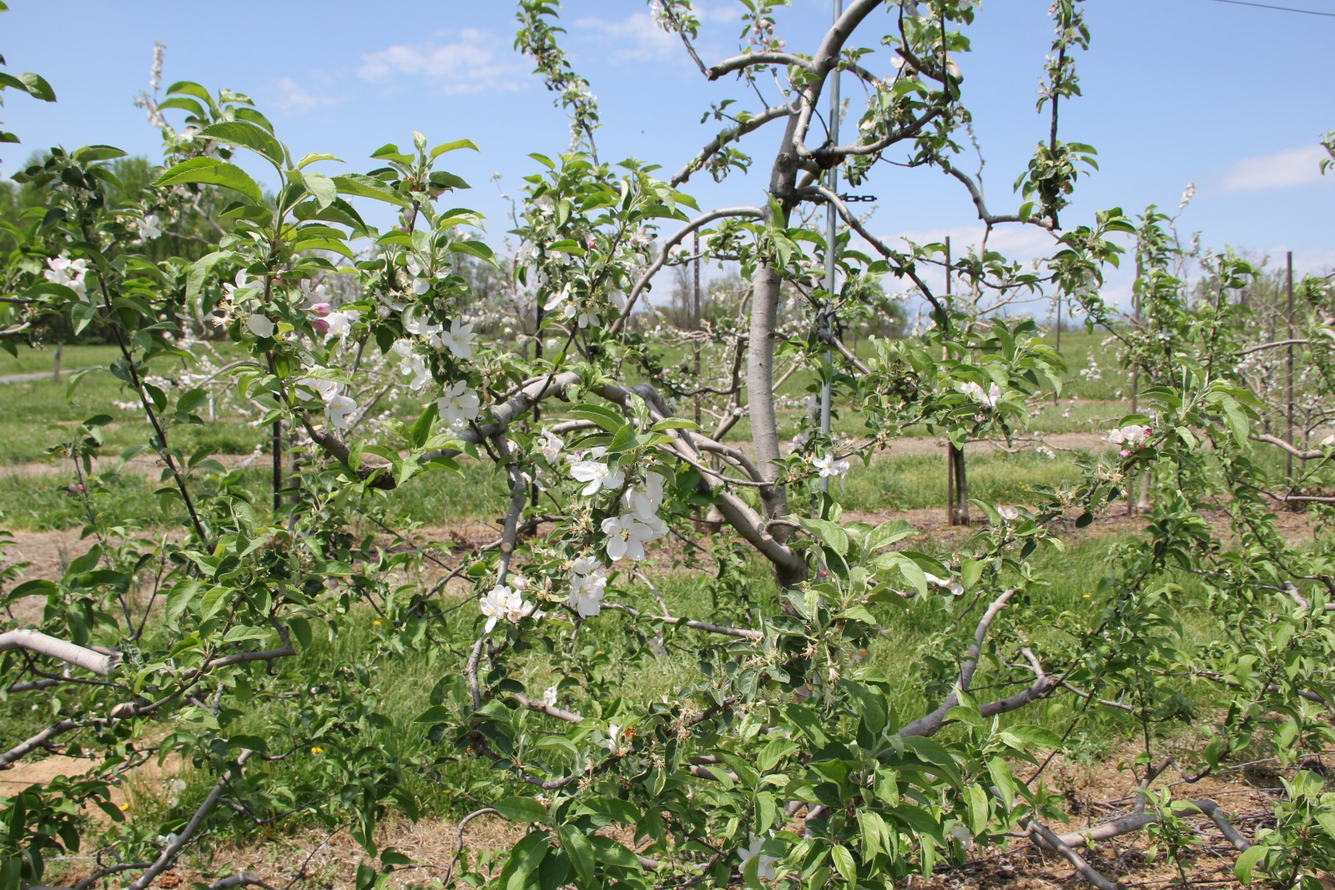flower: (601, 472, 670, 561), (406, 307, 478, 359), (293, 378, 357, 435), (480, 574, 533, 636), (571, 447, 626, 496), (429, 380, 480, 432), (567, 556, 607, 620), (621, 222, 660, 287), (389, 337, 433, 390), (45, 254, 90, 304), (813, 452, 850, 495), (319, 310, 361, 344), (223, 269, 265, 301), (558, 299, 601, 329), (301, 279, 333, 307), (538, 435, 565, 466), (604, 276, 625, 315), (1107, 425, 1152, 443), (738, 841, 762, 874), (544, 283, 572, 311), (375, 288, 407, 312), (247, 314, 276, 339), (650, 0, 672, 31), (136, 215, 161, 242), (758, 855, 783, 881), (516, 241, 540, 268), (532, 195, 556, 217), (406, 255, 426, 277), (413, 278, 431, 295), (550, 252, 571, 266), (544, 686, 557, 706), (295, 389, 314, 402), (613, 241, 626, 259), (532, 609, 547, 622), (620, 275, 631, 289), (553, 234, 565, 243)
